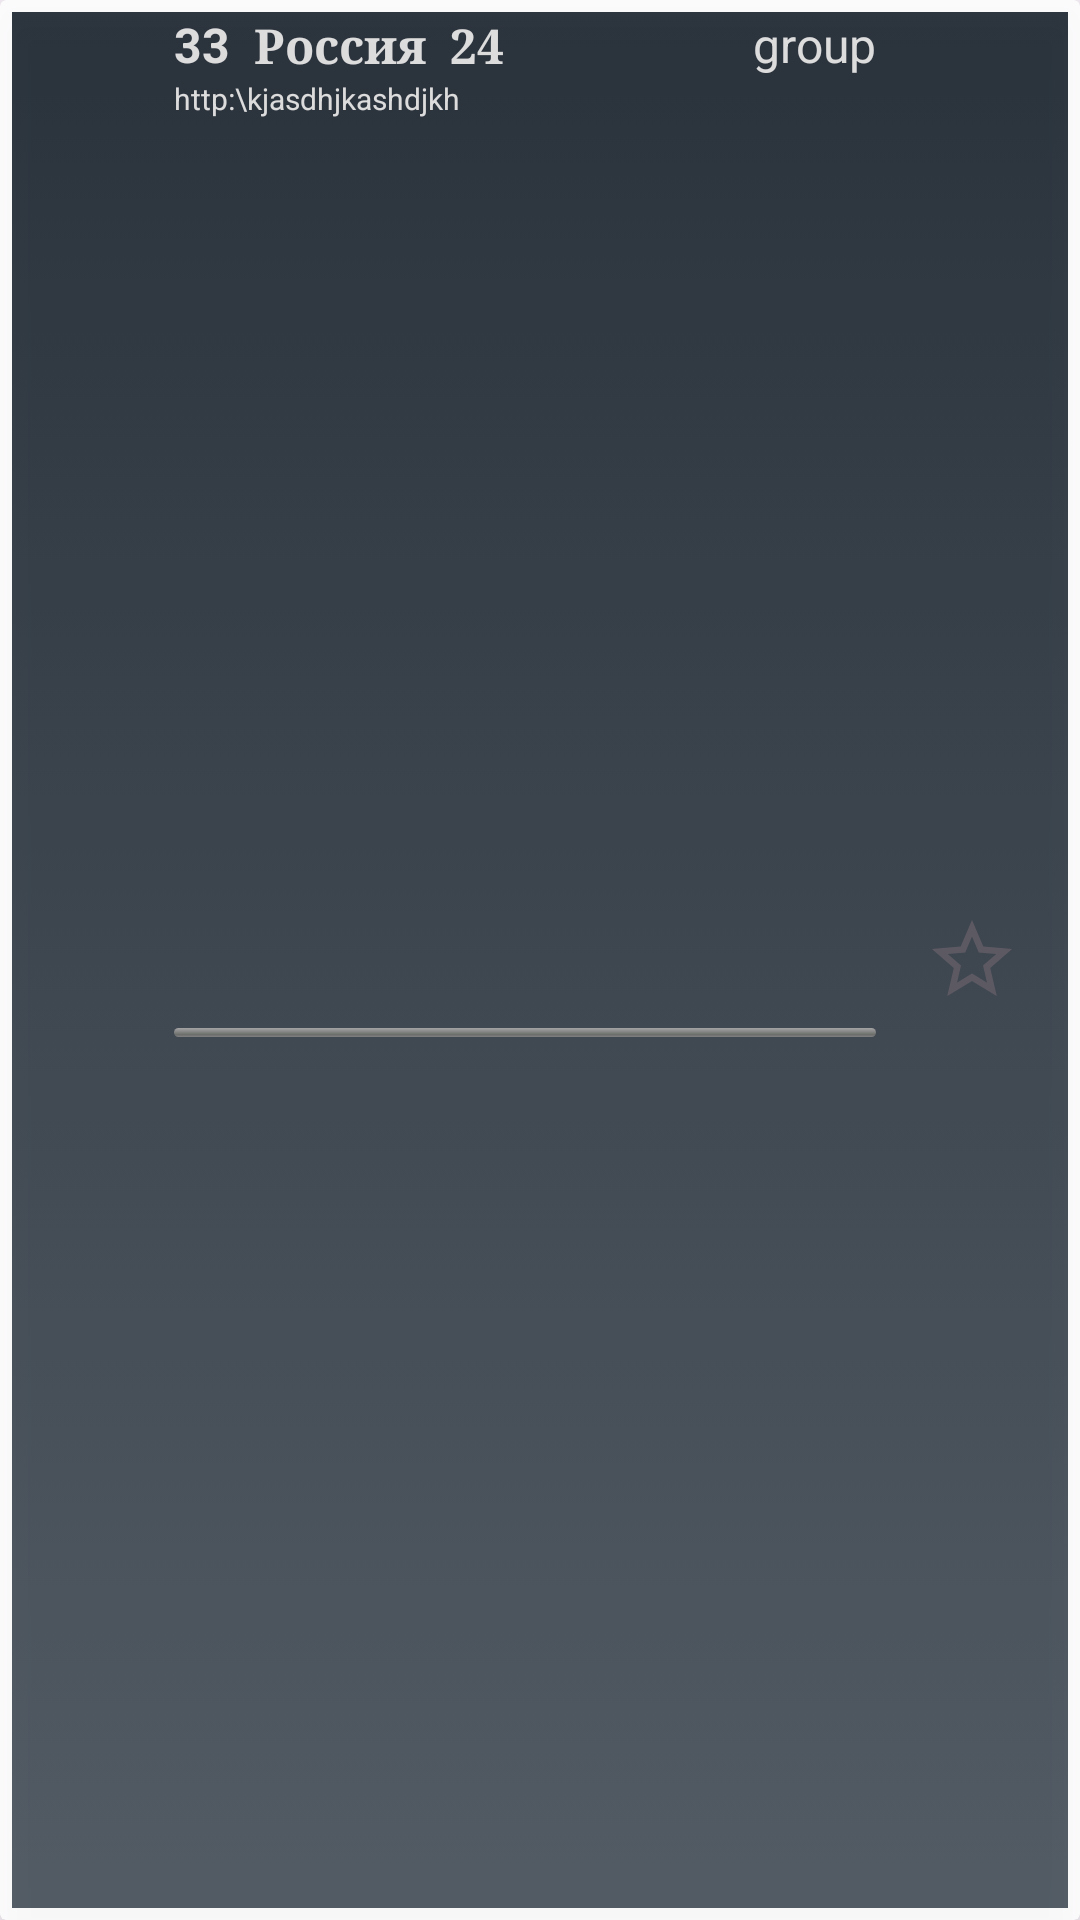

Where icons sit on this 1080w x 1920h app screen, as bbox=[x1, y1, x2, y2]:
star border: bbox=[933, 922, 1011, 995]
